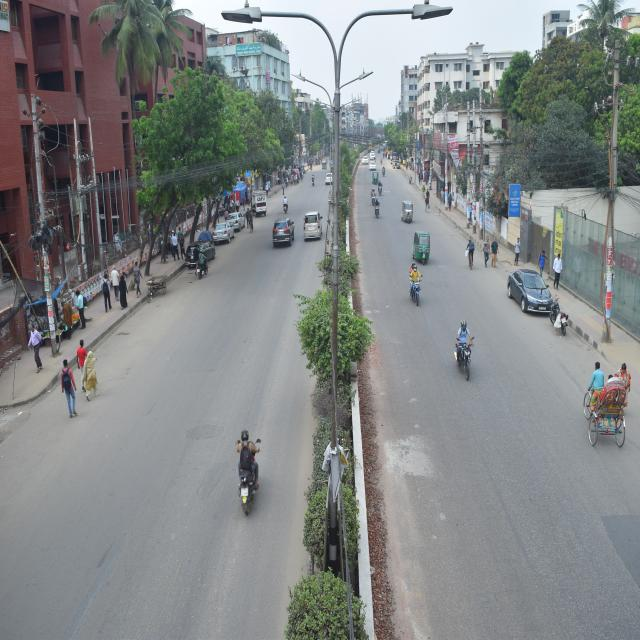car: (498, 262, 560, 324), (183, 233, 219, 273), (212, 220, 238, 250), (227, 203, 246, 239), (368, 157, 378, 170)
microbus: (301, 207, 327, 248), (271, 213, 297, 250)
motorbike: (234, 444, 264, 517), (448, 336, 482, 388), (542, 292, 579, 339), (403, 276, 429, 312), (190, 250, 212, 281), (275, 196, 290, 213), (373, 197, 384, 220), (367, 186, 378, 202), (375, 182, 385, 194)
pickup-van: (252, 182, 276, 226)
